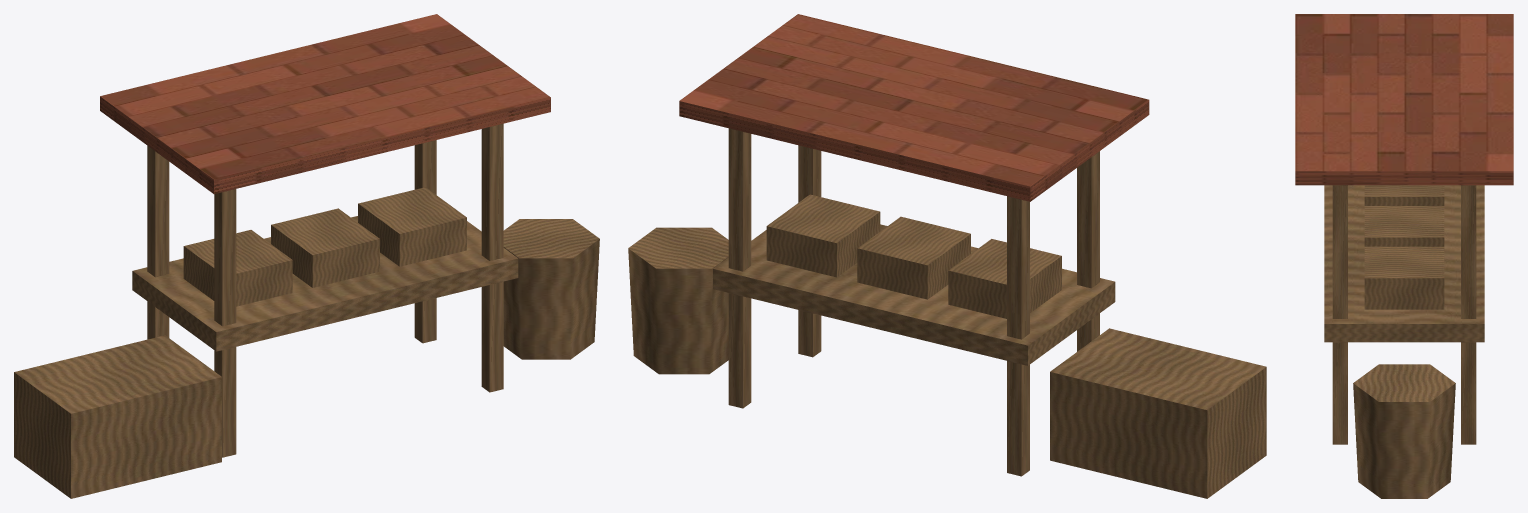
3 views of the same model, side by side, from view 1: azimuth 30°, elevation 25°; view 2: azimuth 150°, elevation 25°; view 3: azimuth 270°, elevation 25° (orthographic). The views are drawn at different scales.
Parts seen in each view (by area): view 1: market-wood, market-roof; view 2: market-wood, market-roof; view 3: market-wood, market-roof.
Part boxes in pixels (x1,y1,x2,y2): market-wood: (14, 123, 599, 498); market-roof: (100, 14, 550, 194); market-wood: (628, 128, 1266, 498); market-roof: (679, 14, 1149, 201); market-wood: (1324, 185, 1484, 498); market-roof: (1295, 14, 1513, 185).
Size of the model in its own units: 4.8 by 2.46 by 1.7.
Materials: 2 (2 with a texture image).
